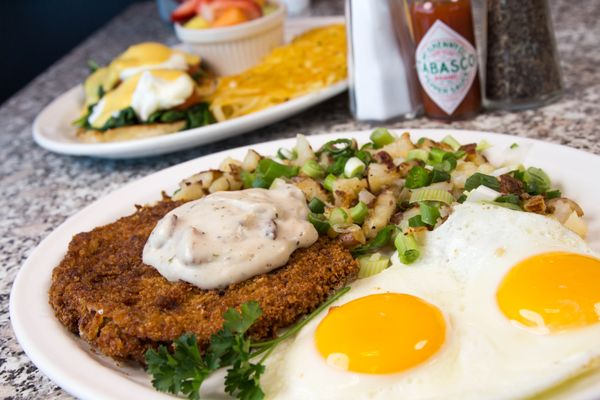sushi: (170, 0, 287, 76)
